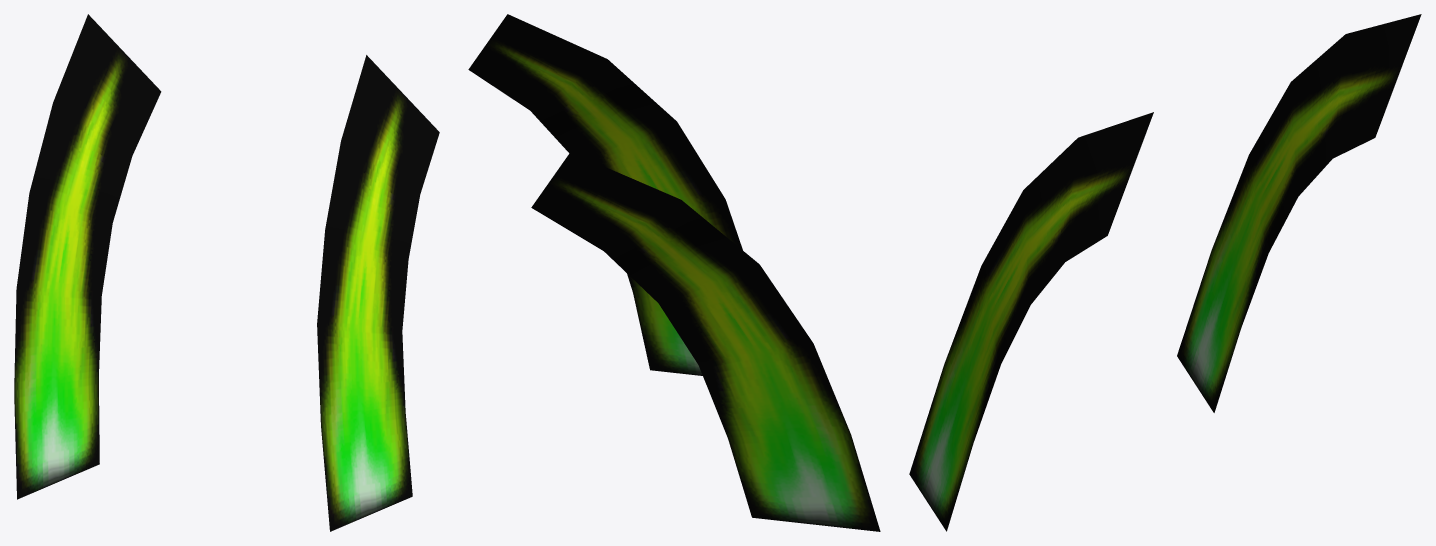
File: effect_xuanwu_1.FBX
3 renders of one model, left to right at view 1: azimuth 30°, elevation 25°; view 2: azimuth 150°, elevation 25°; view 3: azimuth 270°, elevation 25°, orthographic. The views are drawn at different scales.
Parts seen in each view (by area): view 1: effect_xuanwu_2; view 2: effect_xuanwu_2; view 3: effect_xuanwu_2.
Part boxes in pixels (x1,y1,x2,y2): effect_xuanwu_2: (14,14,439,531); effect_xuanwu_2: (468,14,880,531); effect_xuanwu_2: (909,14,1421,531).
Size of what is drawn, in the model's own units: 148 by 133 by 139.
Materials: 1 (1 with a texture image).
